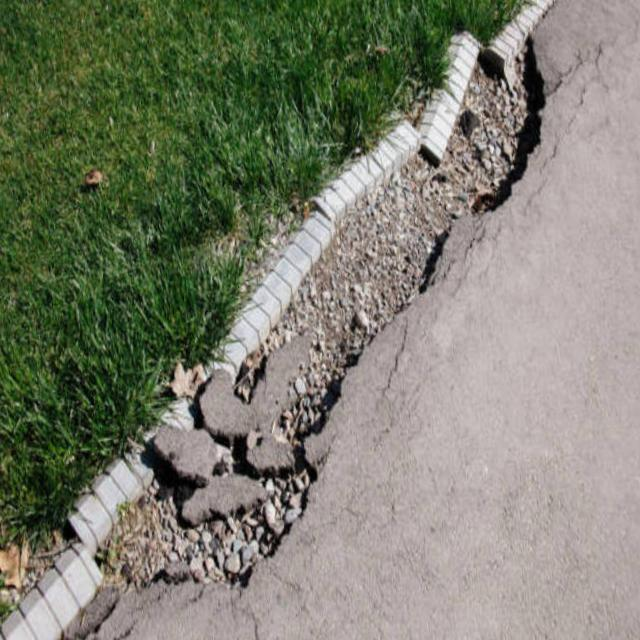Pinggir: (37, 0, 558, 592)
